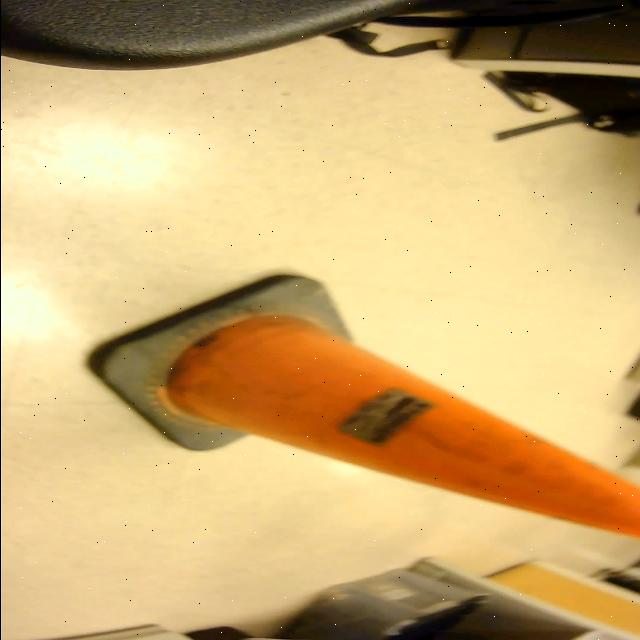traffic cone: (76, 270, 640, 544)
